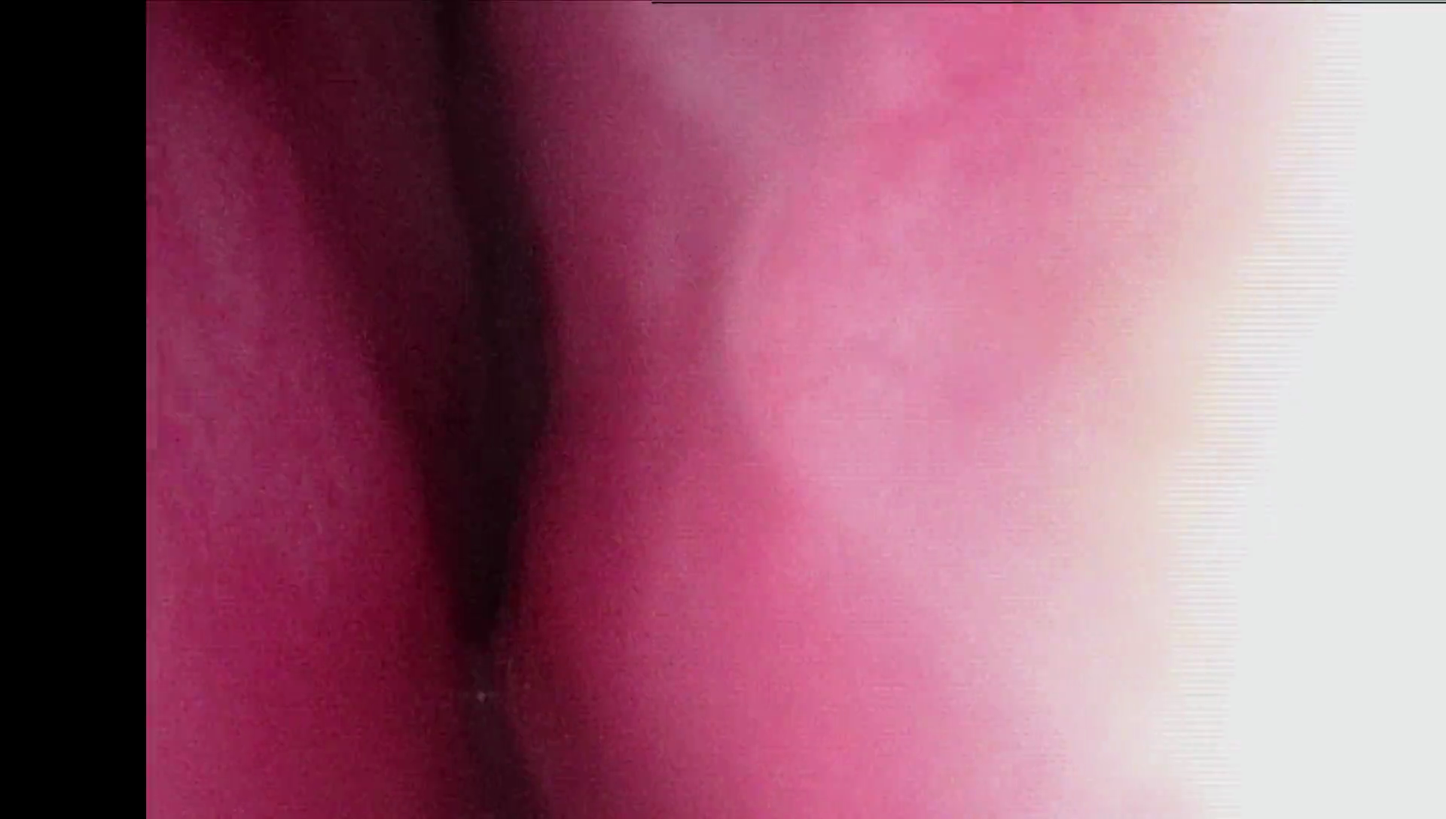close_wall: (682, 11, 1446, 819)
next: (411, 248, 591, 693)
